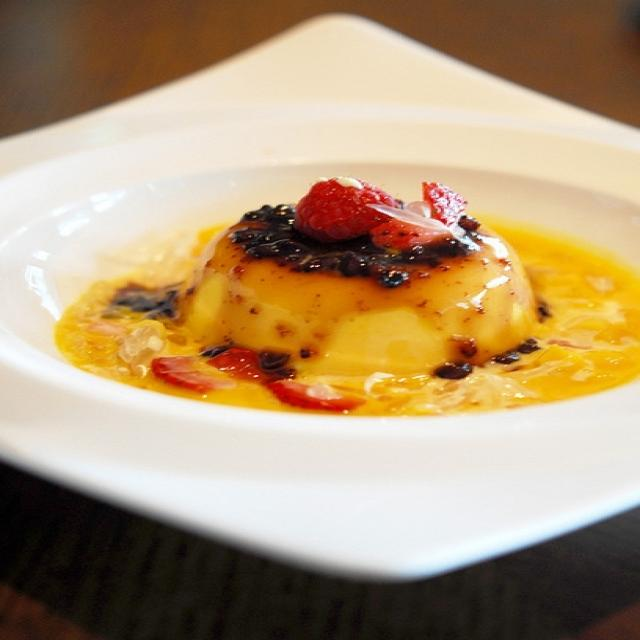蛋糕甜品: (8, 42, 629, 607)
